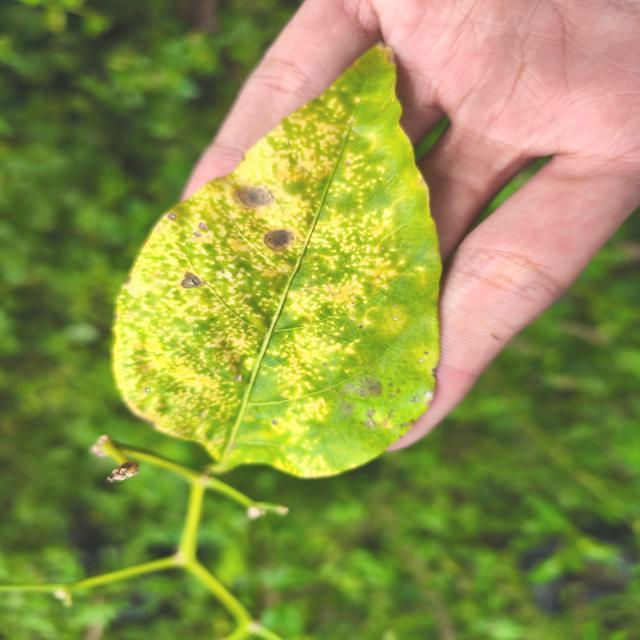Virus Kuning: (111, 42, 445, 480)
